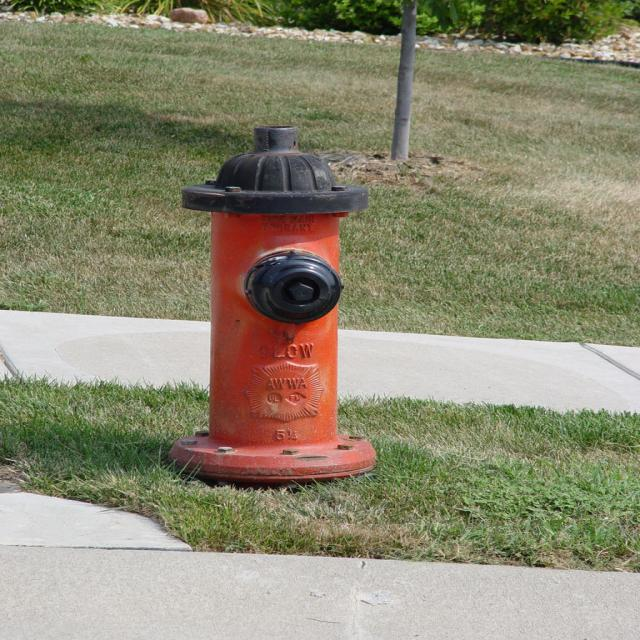fire_hydrant: (180, 128, 377, 490)
